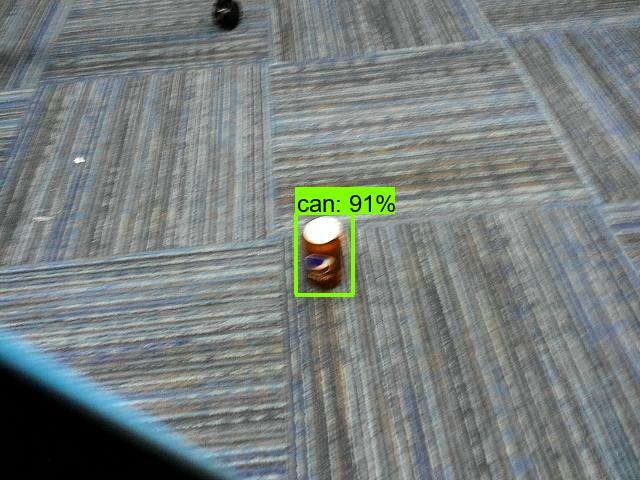can: (296, 212, 351, 295)
